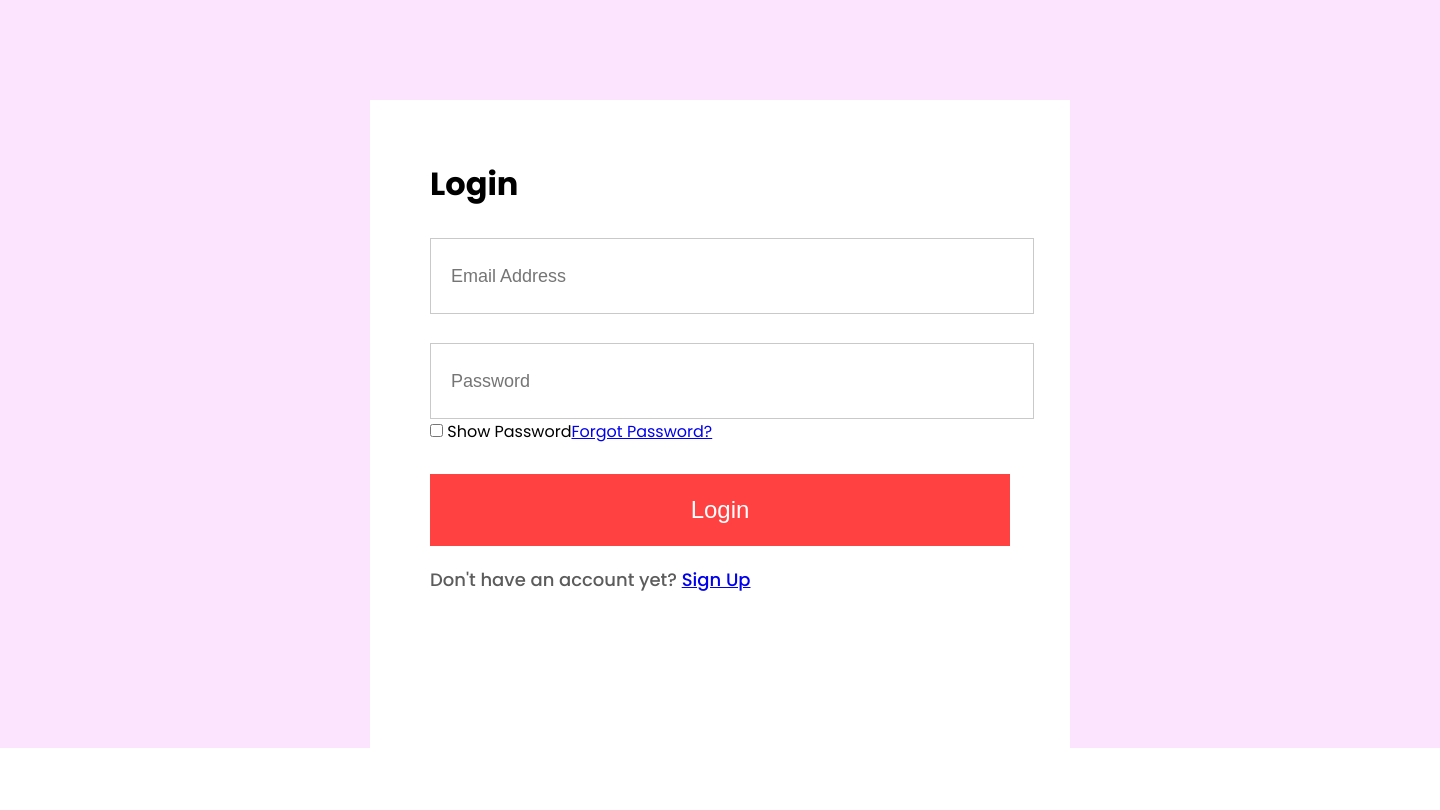
Login Component › shows error for short password
Type "12345" into the password field with placeholder "Password" at (732, 381), box [430,343,1034,419]
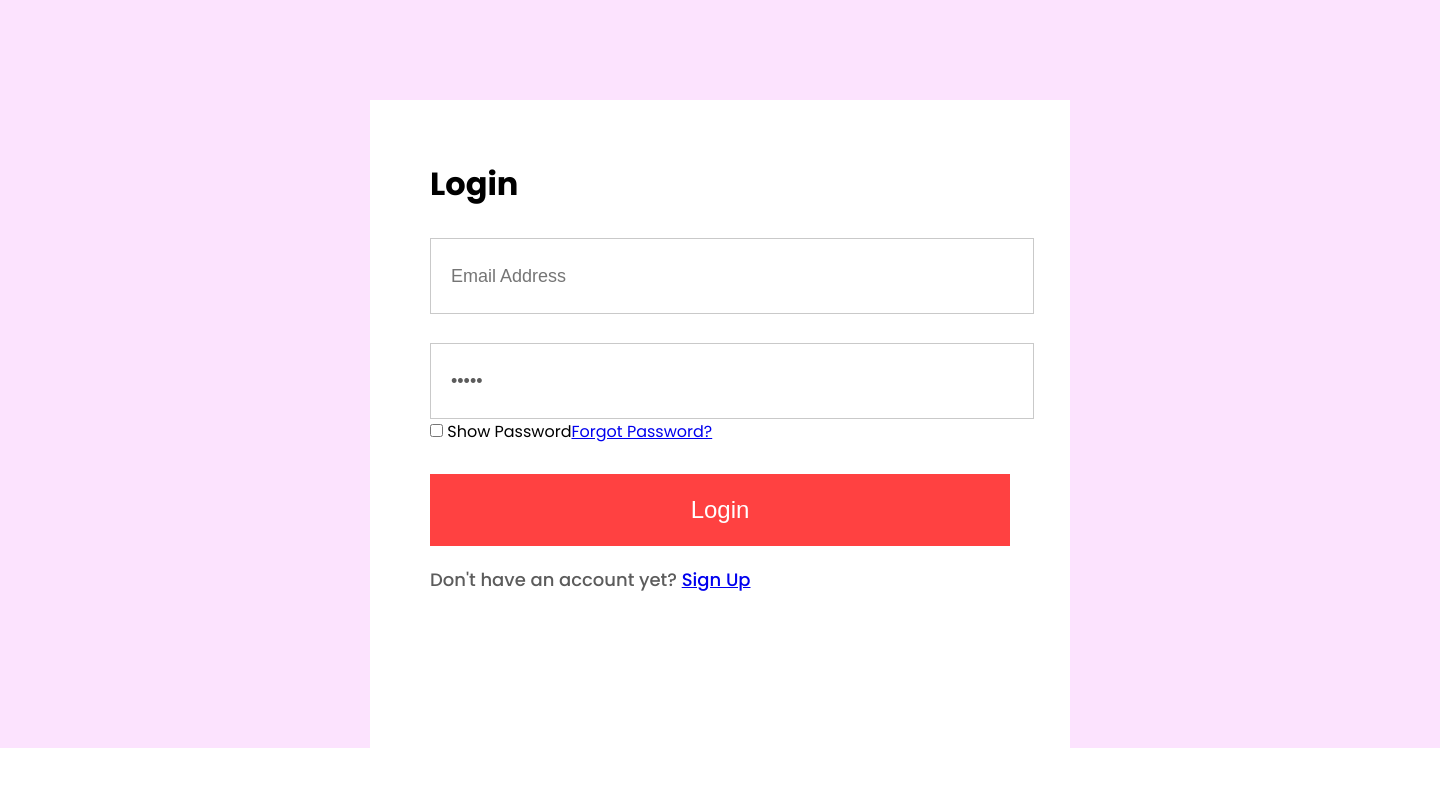
Click the button "Login" at (720, 510), box [430,474,1010,546]
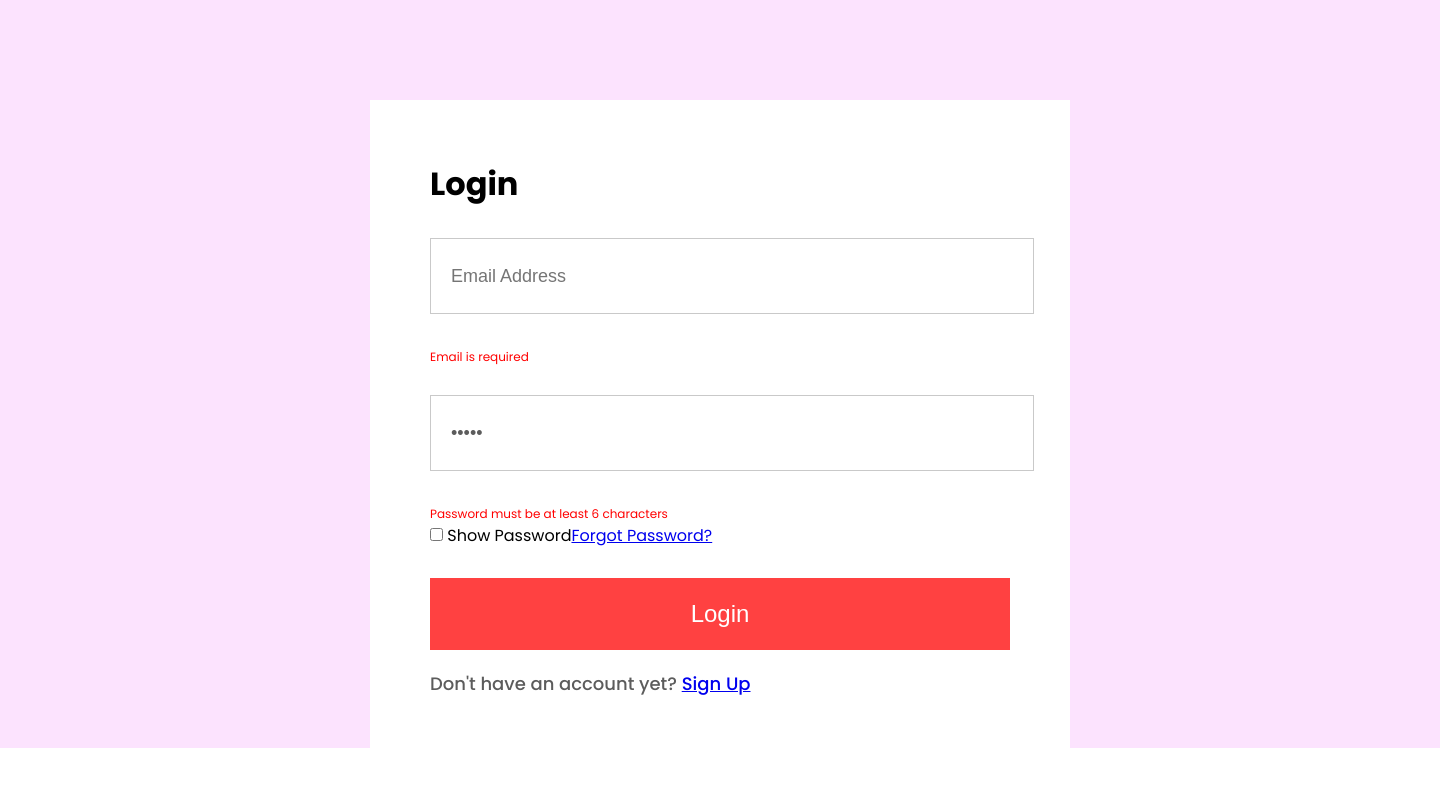
Result: the text "Password must be at least 6 characters" is shown at [430,505,668,522]
